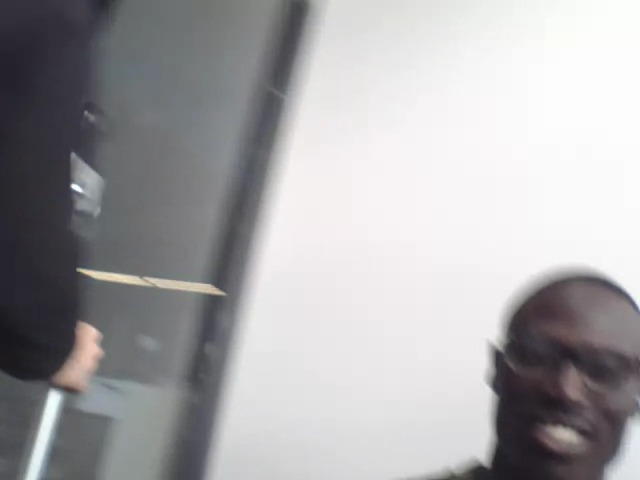face: (495, 278, 640, 480)
